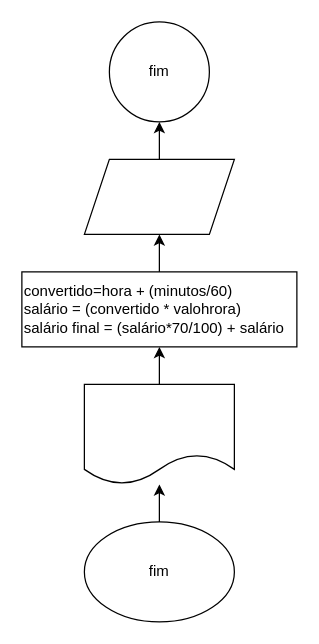
This 319x644 diagram has some shape labels left out. The shapes that lost their labels are listed below. From the top down, each one's centre as x and y in pixels, then its label:
point (158, 196): horas, minutos, valorhora
point (158, 433): salariofinal
